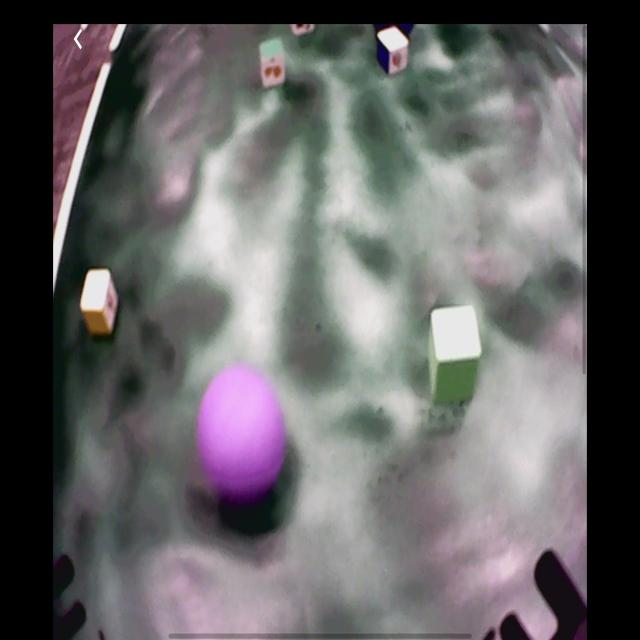ball: (198, 371, 288, 509)
